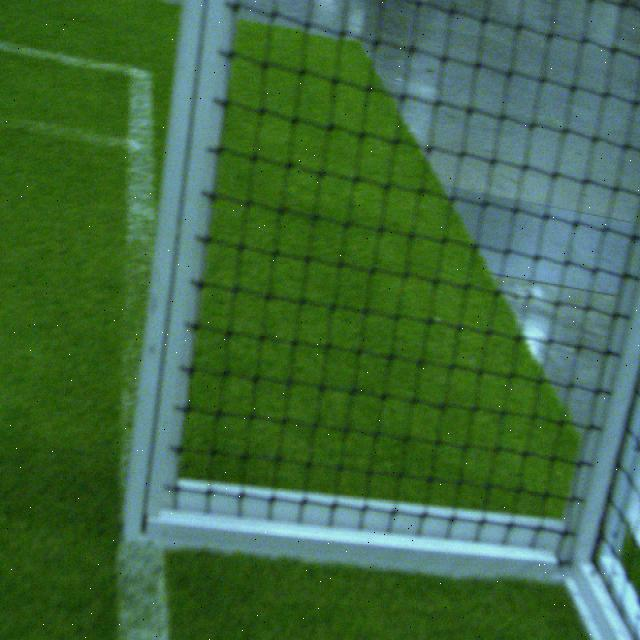goalpost: (124, 1, 235, 547)
